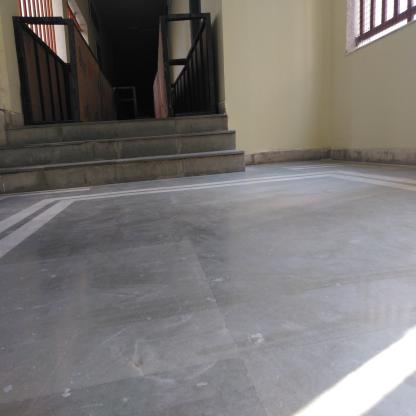stairs: (9, 122, 219, 182)
